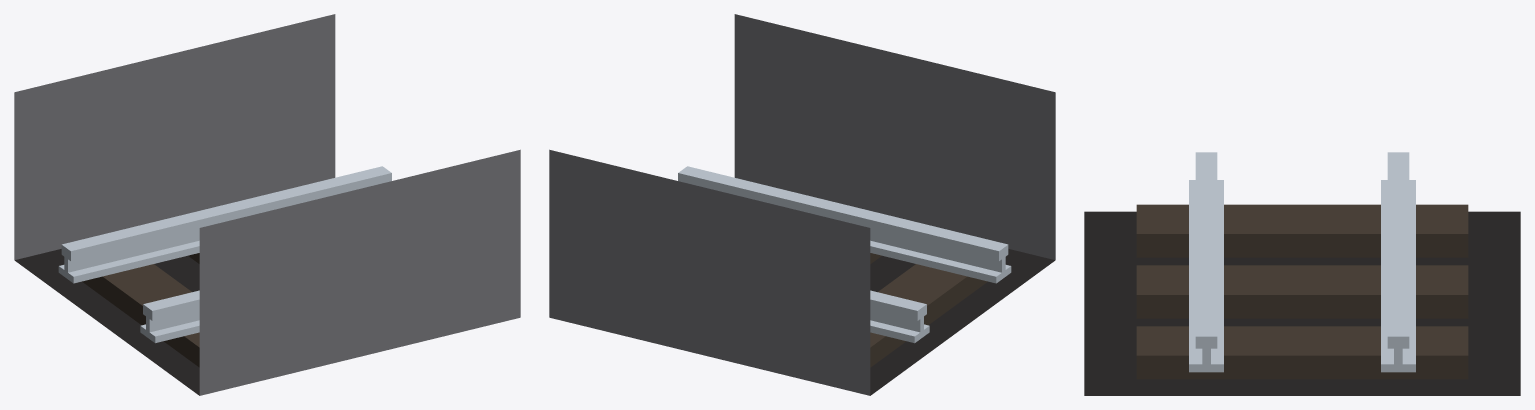
Rendered from metro_rails.obj.
3 views of the same model, side by side, from view 1: azimuth 30°, elevation 25°; view 2: azimuth 150°, elevation 25°; view 3: azimuth 270°, elevation 25° (orthographic). The views are drawn at different scales.
Size of the model in its own units: 1 by 0.5 by 1.
